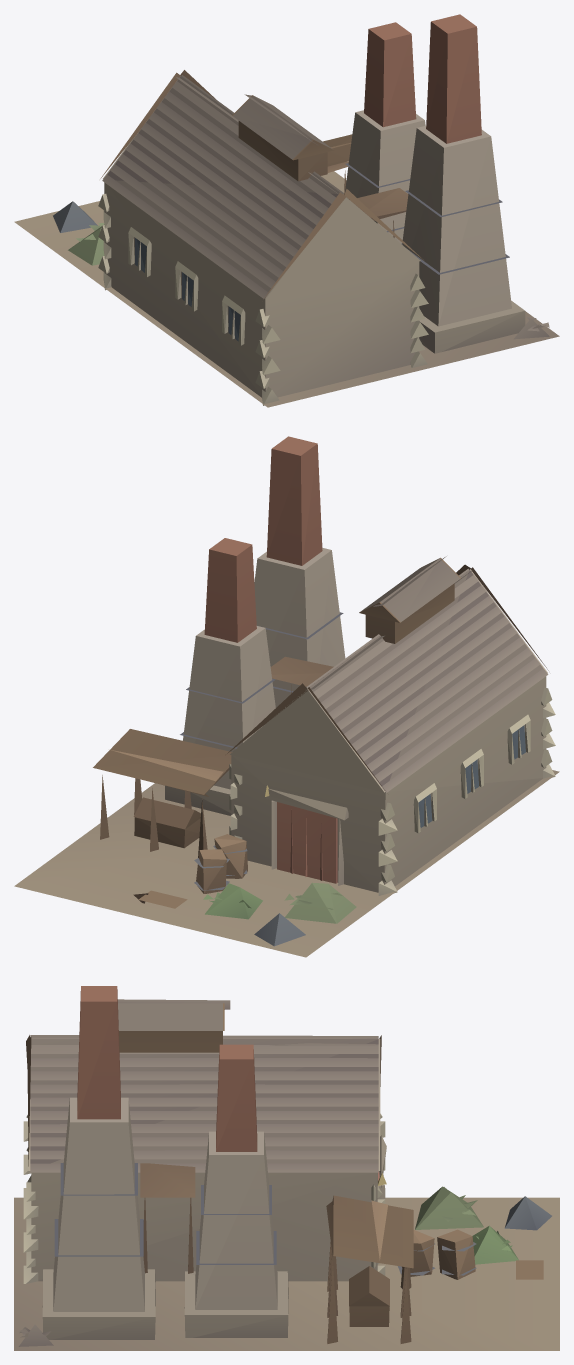
The model's file is copper_smelter.lite.glb.
The picture shows the model from 3 angles, top to bottom: view 1: azimuth 30°, elevation 25°; view 2: azimuth 150°, elevation 25°; view 3: azimuth 270°, elevation 25°; orthographic projection. The views are drawn at different scales.
Visible parts, largest first — view 1: copper_smelter; view 2: copper_smelter; view 3: copper_smelter.
Part boxes in pixels (bbox=[...]): copper_smelter: bbox=[14, 14, 559, 407]; copper_smelter: bbox=[14, 436, 559, 957]; copper_smelter: bbox=[14, 986, 559, 1350].
Size of the model in its own units: 3.97 by 3.9 by 5.96.
